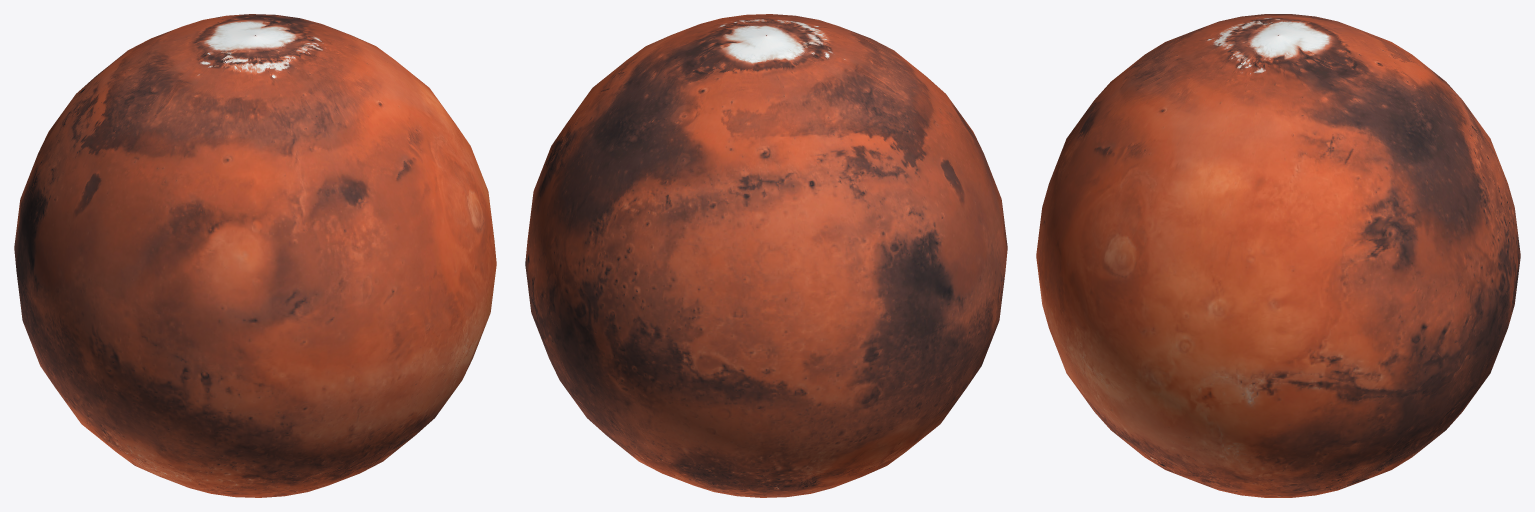
The model's file is mars_01.fbx.
The picture shows the model from 3 angles, left to right: view 1: azimuth 30°, elevation 25°; view 2: azimuth 150°, elevation 25°; view 3: azimuth 270°, elevation 25°; orthographic projection.
Parts seen in each view (by area): view 1: mars_model; view 2: mars_model; view 3: mars_model.
Boxes of the visible parts, x1=… form: mars_model: x1=14, y1=14, x2=496, y2=497; mars_model: x1=525, y1=14, x2=1007, y2=497; mars_model: x1=1036, y1=14, x2=1520, y2=497.
Bounding box in the file's own units: 199 × 200 × 200.
Materials: 1 (1 with a texture image).
